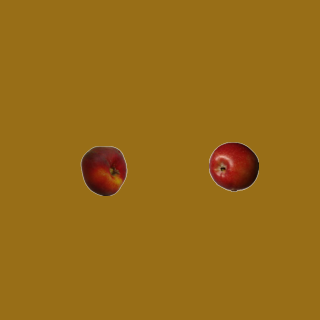Apple Braeburn: (208, 141, 258, 191)
Nectarine Flat: (78, 145, 128, 195)
